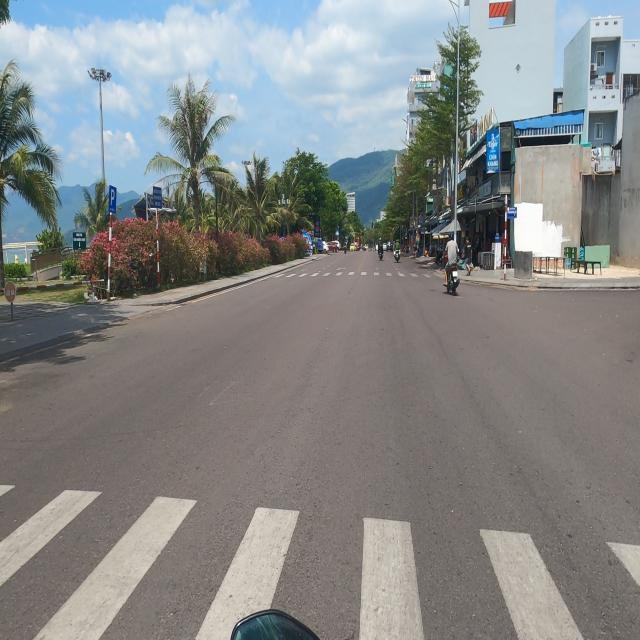walk-crossing: (0, 482, 640, 640)
